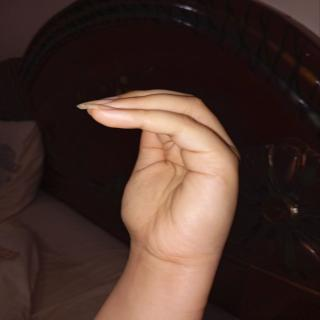HAA: (73, 82, 255, 277)
